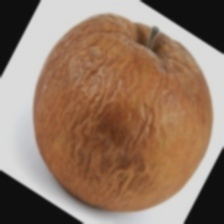apple: (23, 26, 170, 161)
